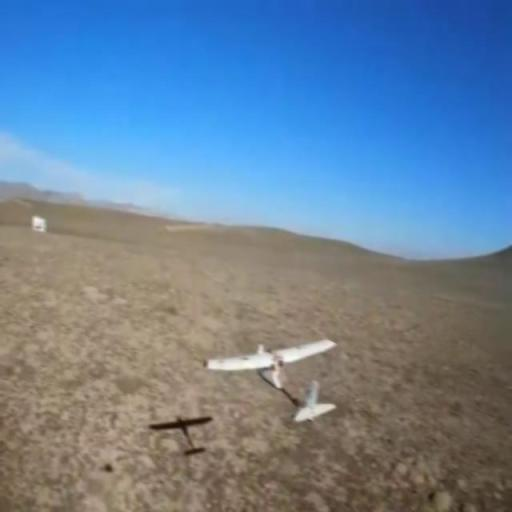uav: (200, 335, 339, 423)
